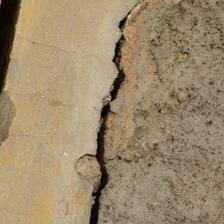Crack: (39, 4, 103, 220)
